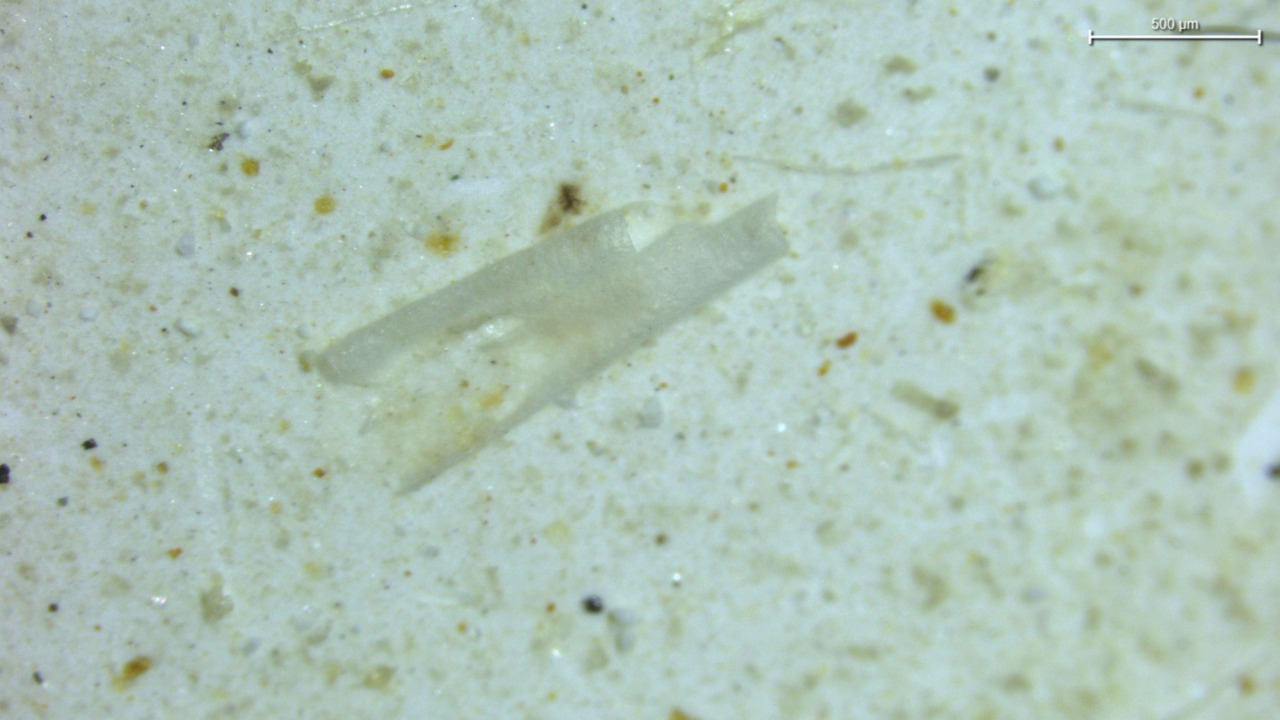microplastic_fragment: (310, 196, 788, 491)
